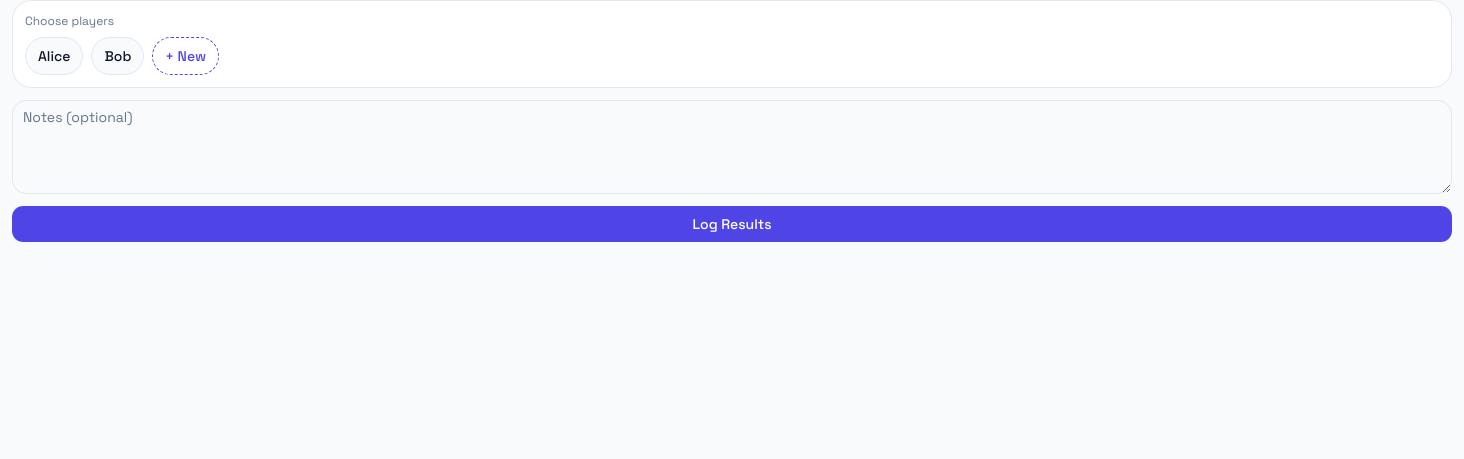
Test: SessionForm WhatsApp share (step 16.4) › shows the success screen WITHOUT a Share button on desktop (fine pointer)
This screenshot has width=1464, height=459.
Step 1. Click the button "Alice" → (54,56), box [25, 37, 84, 75]
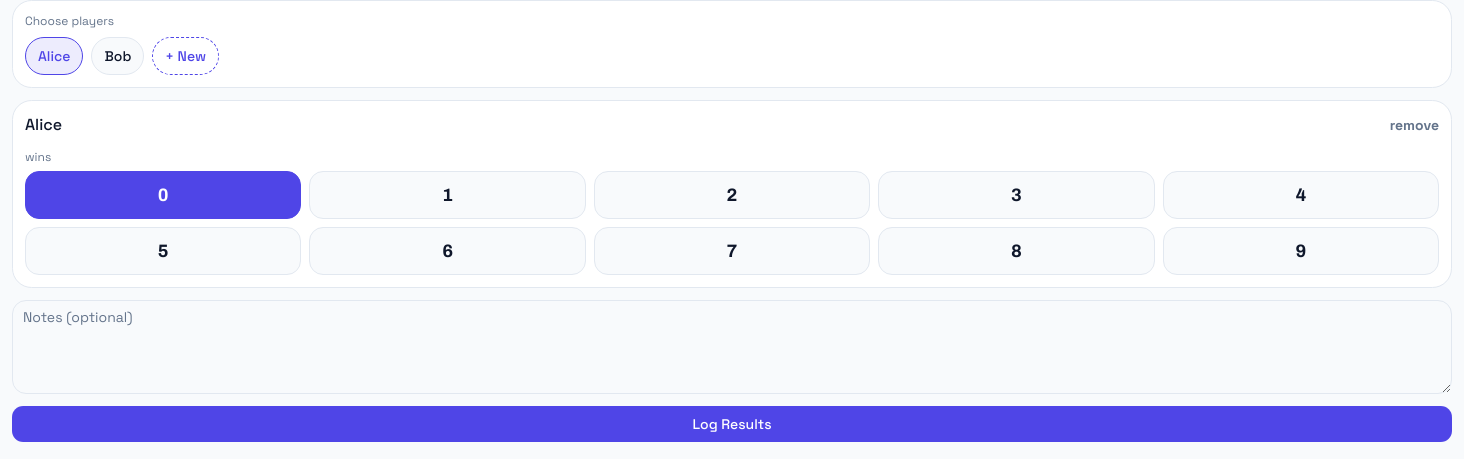
Step 2. Click the button named "3 wins" → (1016,195), box [878, 171, 1155, 219]
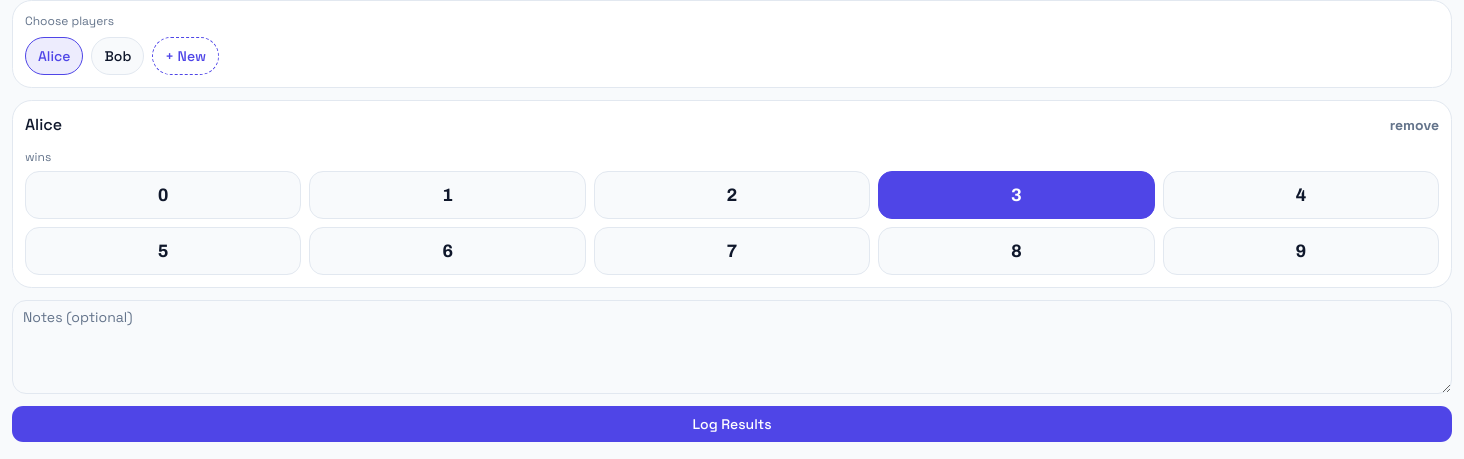
Step 3. Click the button "Log Results" → (732,424), box [12, 406, 1452, 442]
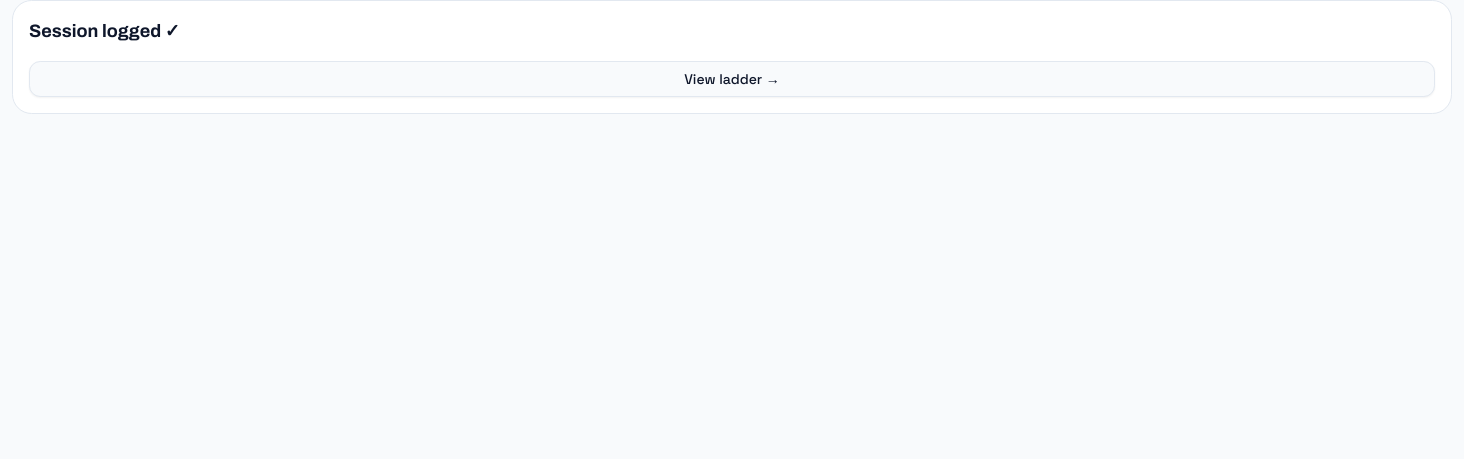
Result: the button "View ladder →" is shown at [29, 61, 1435, 97]
